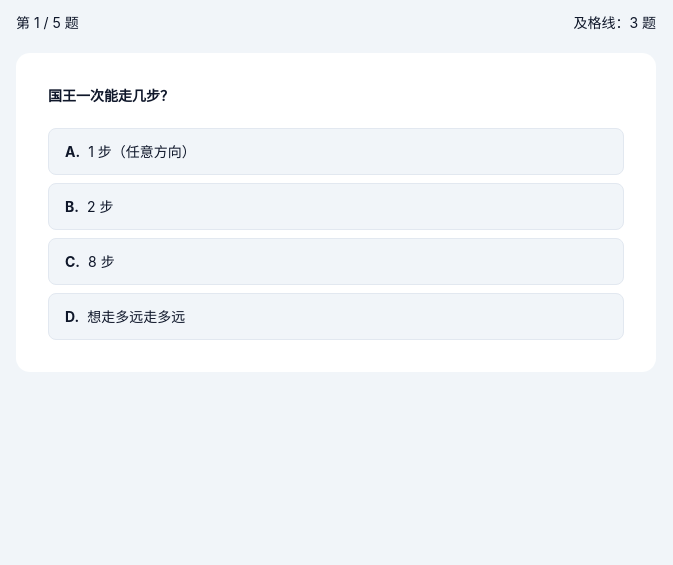
Test: QuizPage › shows correct feedback and next button when user picks right answer
Check: the heading "国王一次能走几步？" is shown, box [48, 87, 174, 104]
Click the button "A.1 步（任意方向）" at [142, 151], box [48, 128, 624, 175]
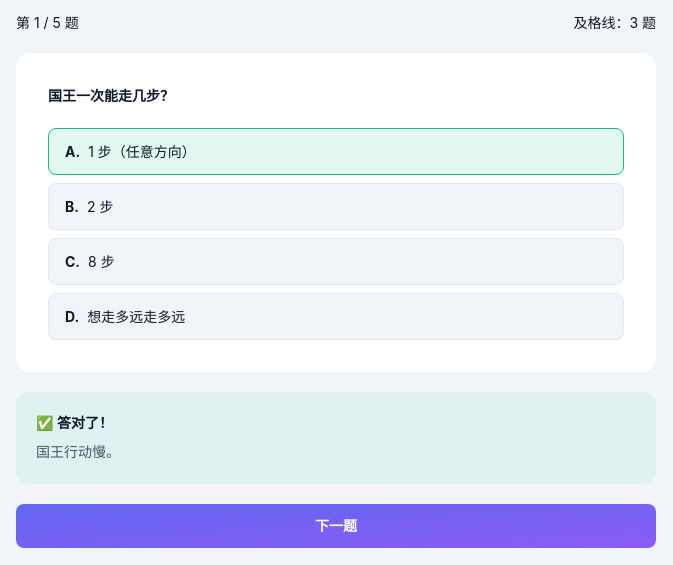
Check: the text "国王行动慢。" is shown, box [36, 443, 120, 460]
Check: the button "下一题" is shown, box [16, 504, 656, 548]
